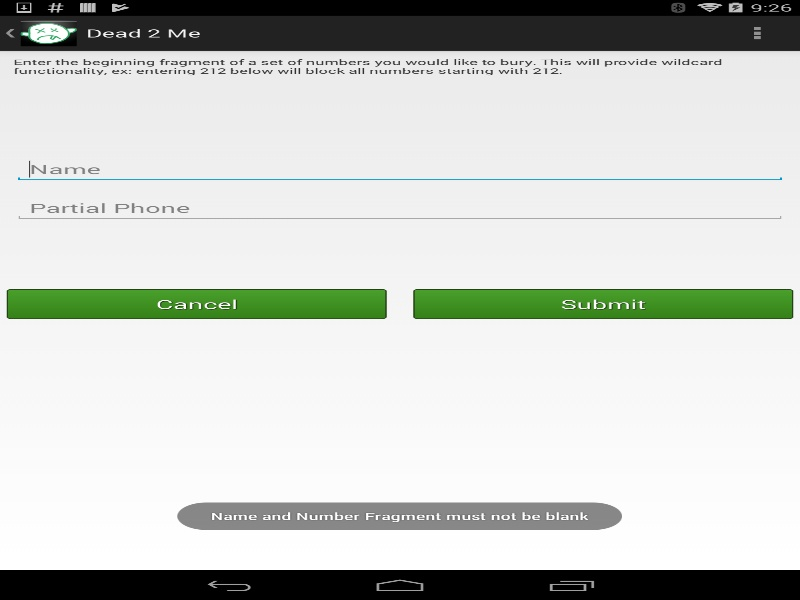Button: (6, 289, 386, 319), (413, 289, 793, 319), (714, 15, 800, 50)
Input: (13, 156, 786, 182), (13, 195, 786, 221)
